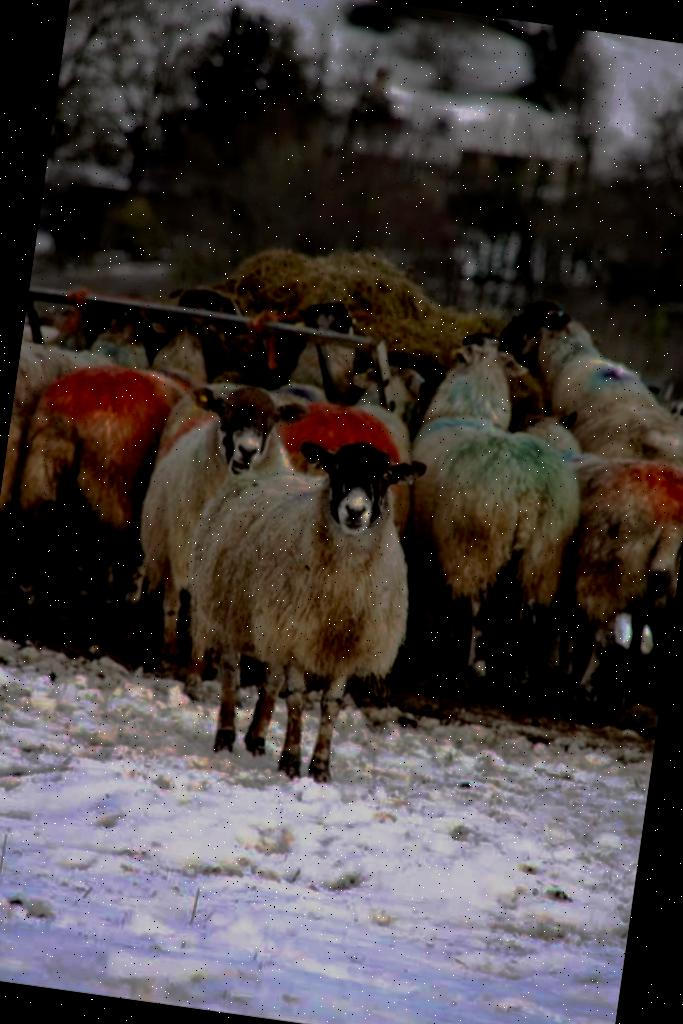Sheep: (456, 285, 683, 716), (168, 425, 428, 800), (10, 280, 224, 648), (394, 341, 590, 713), (120, 373, 311, 659), (22, 239, 162, 393), (258, 244, 372, 400)
